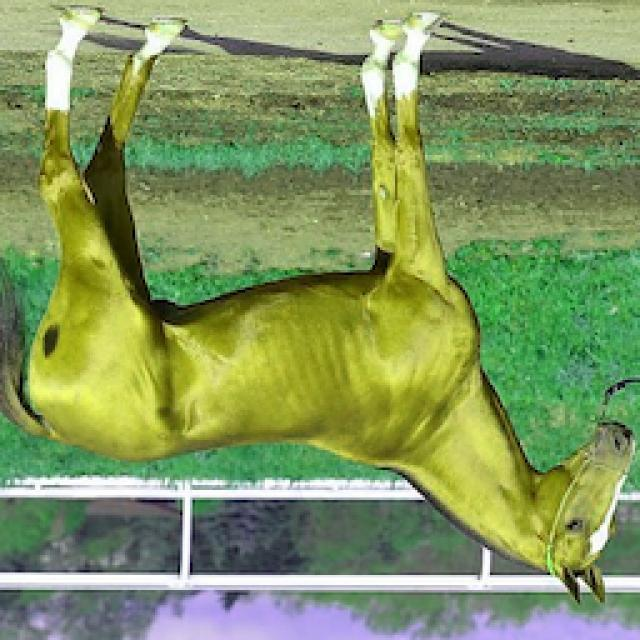Horse: (0, 5, 638, 610)
